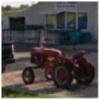tractors: (21, 45, 96, 90)
